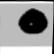correct: (16, 5, 49, 36)
